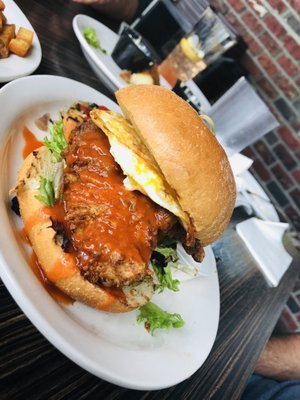pizza: (110, 0, 197, 87)
soup: (8, 86, 237, 313)
